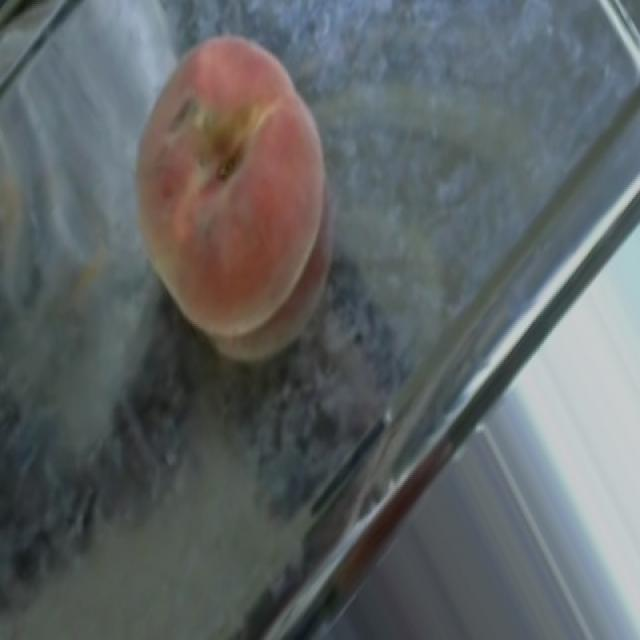Fruit: (93, 6, 359, 366)
